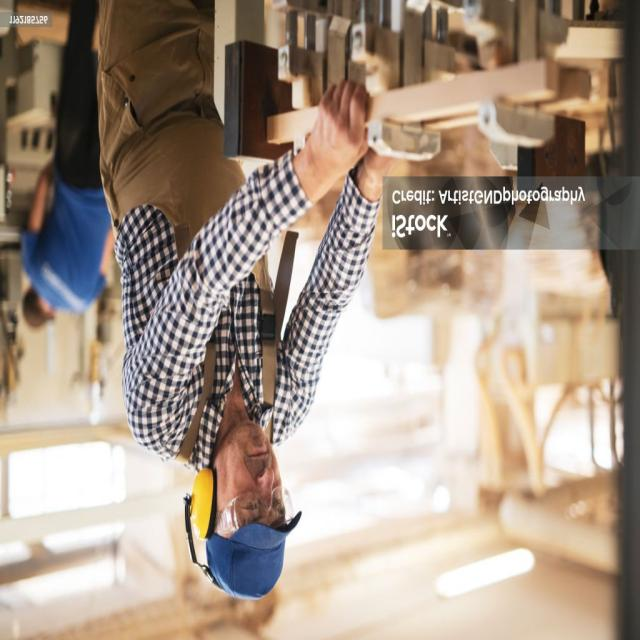Ear-Protection: (178, 461, 220, 560)
Glasses: (209, 480, 297, 538)
